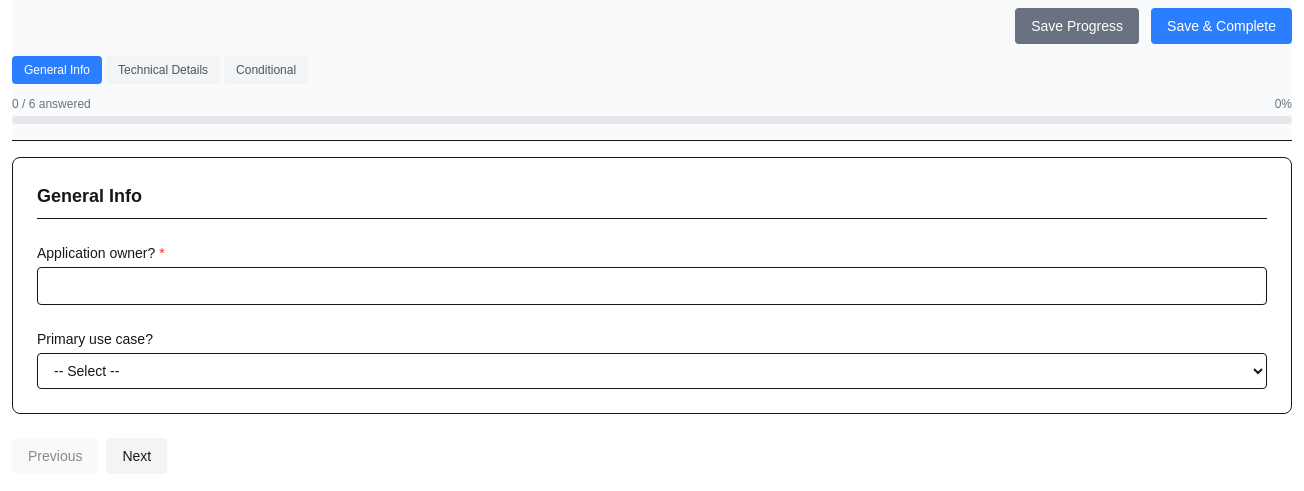
Test: AppQuestionsForm › saves and completes via API
Click the button "Save & Complete" at (1222, 26), box top-left (1151, 8), bottom-right (1292, 44)
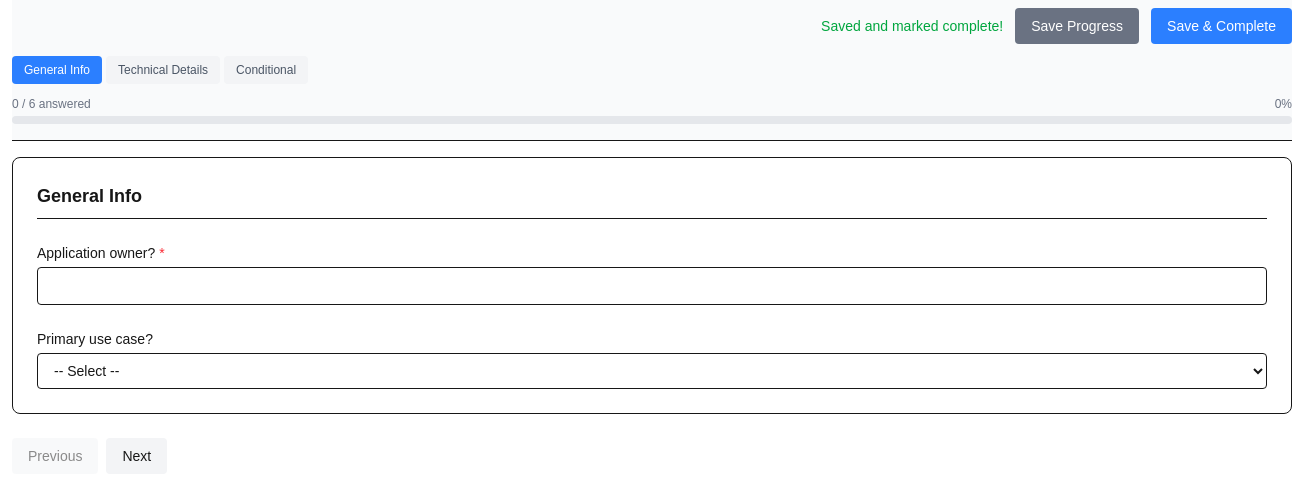
Check: the text "Saved and marked complete!" is shown, box top-left (821, 16), bottom-right (1003, 36)
